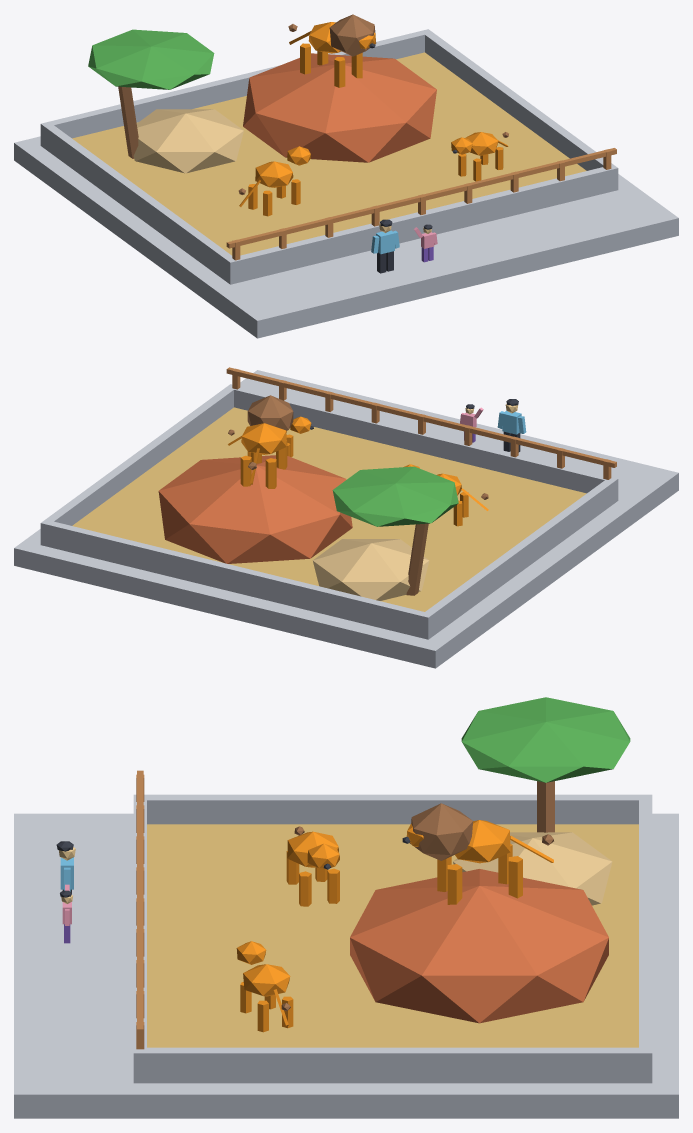
Rendered from zoo_lion.glb.
The picture shows the model from 3 angles, top to bottom: view 1: azimuth 30°, elevation 25°; view 2: azimuth 150°, elevation 25°; view 3: azimuth 270°, elevation 25°; orthographic projection. The views are drawn at different scales.
Parts seen in each view (by area): view 1: zoo_lion; view 2: zoo_lion; view 3: zoo_lion.
Part boxes in pixels (box(x1,y1,x2,y2)): zoo_lion: box(14, 14, 678, 338); zoo_lion: box(14, 367, 678, 668); zoo_lion: box(14, 697, 678, 1118).
Bounding box in the file's own units: 1 × 0.336 × 1.
